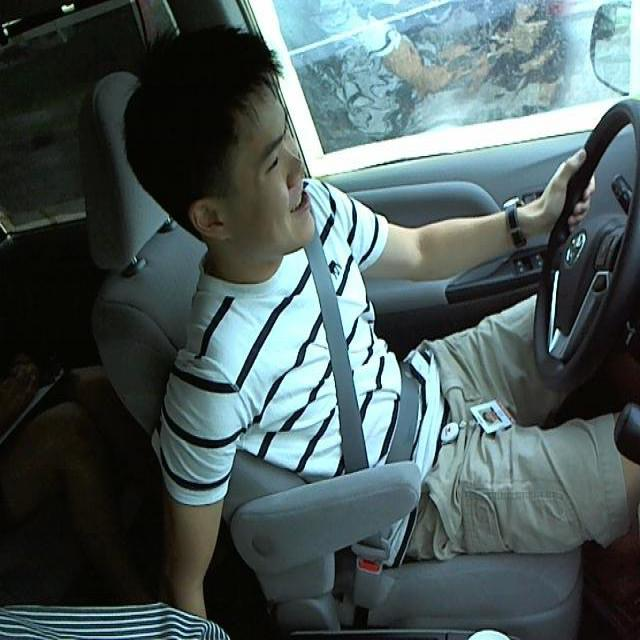seatbelt: (301, 244, 428, 459)
